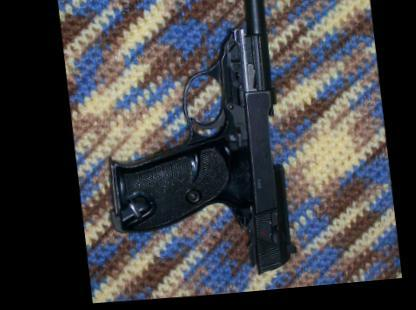pistol: (78, 0, 305, 289)
